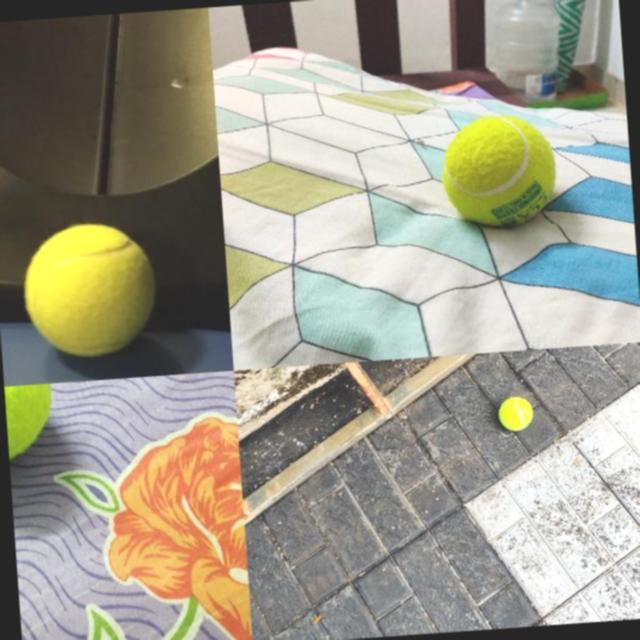tennis-ball: (16, 215, 161, 362), (438, 110, 559, 230), (497, 394, 534, 432)
